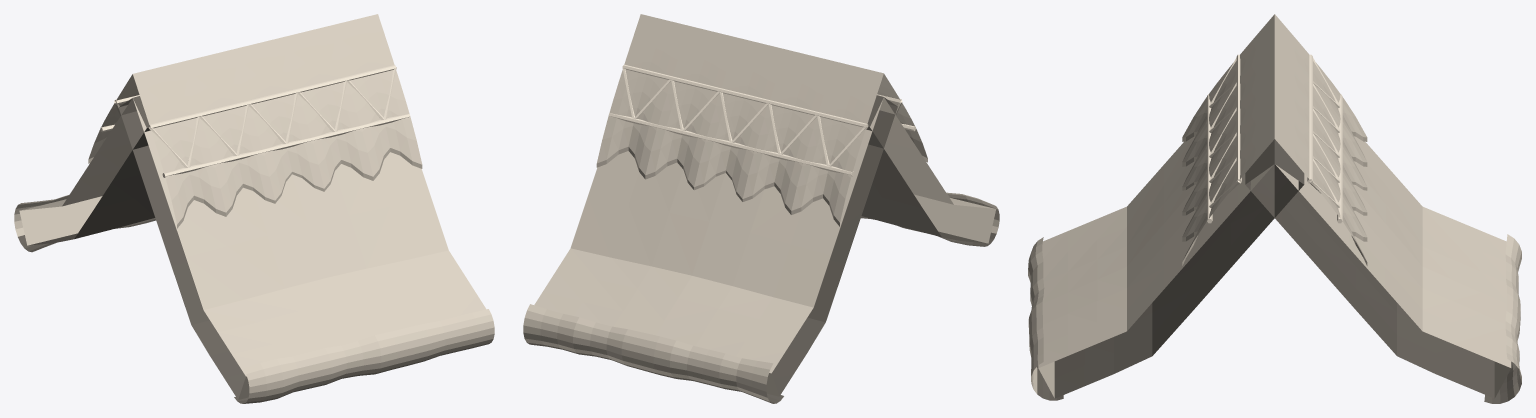
File: SM_VK_RoofThatchS_Mid.fbx
The picture shows the model from 3 angles, left to right: view 1: azimuth 30°, elevation 25°; view 2: azimuth 150°, elevation 25°; view 3: azimuth 270°, elevation 25°; orthographic projection. The views are drawn at different scales.
Parts seen in each view (by area): view 1: SM_VK_RoofThatchS_Mid.001; view 2: SM_VK_RoofThatchS_Mid.001; view 3: SM_VK_RoofThatchS_Mid.001.
Part boxes in pixels (<box>): SM_VK_RoofThatchS_Mid.001: <box>14,14,494,403</box>; SM_VK_RoofThatchS_Mid.001: <box>523,14,999,403</box>; SM_VK_RoofThatchS_Mid.001: <box>1028,14,1521,403</box>.
Bounding box in the file's own units: 3.03 × 2.97 × 5.01.
